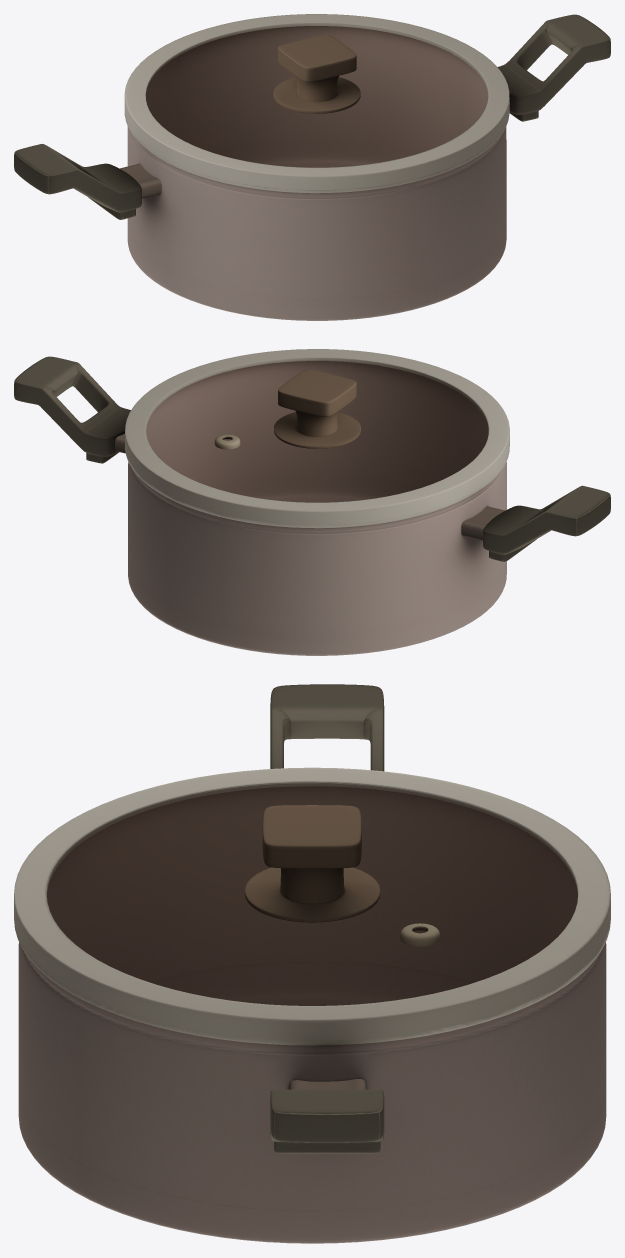
File: POT1.glb
3 renders of one model, top to bottom at view 1: azimuth 30°, elevation 25°; view 2: azimuth 150°, elevation 25°; view 3: azimuth 270°, elevation 25°, orthographic. The views are drawn at different scales.
Visible parts, largest first — view 1: polySurface25, polySurface21, polySurface24, polySurface27, polySurface29, polySurface31, polySurface26, polySurface30; view 2: polySurface25, polySurface21, polySurface24, polySurface27, polySurface29, polySurface31, polySurface26, polySurface30; view 3: polySurface25, polySurface21, polySurface24, polySurface31, polySurface27, polySurface29, polySurface26, polySurface23, polySurface28.
Boxes of the visible parts, bbox=[...] form: polySurface25: bbox=[127, 26, 506, 320]; polySurface21: bbox=[146, 26, 487, 166]; polySurface24: bbox=[124, 14, 509, 193]; polySurface27: bbox=[497, 14, 610, 121]; polySurface29: bbox=[14, 144, 141, 219]; polySurface31: bbox=[278, 35, 356, 101]; polySurface26: bbox=[273, 77, 360, 113]; polySurface30: bbox=[119, 163, 161, 198]; polySurface25: bbox=[128, 361, 506, 655]; polySurface21: bbox=[147, 361, 487, 501]; polySurface24: bbox=[125, 349, 509, 528]; polySurface27: bbox=[14, 356, 130, 463]; polySurface29: bbox=[483, 485, 610, 561]; polySurface31: bbox=[278, 369, 356, 436]; polySurface26: bbox=[274, 412, 360, 448]; polySurface30: bbox=[461, 506, 504, 540]; polySurface25: bbox=[18, 786, 606, 1243]; polySurface21: bbox=[47, 786, 577, 1005]; polySurface24: bbox=[14, 767, 610, 1045]; polySurface31: bbox=[262, 805, 361, 903]; polySurface27: bbox=[270, 1089, 384, 1153]; polySurface29: bbox=[270, 684, 384, 771]; polySurface26: bbox=[244, 867, 380, 922]; polySurface23: bbox=[400, 923, 440, 946]; polySurface28: bbox=[288, 1079, 366, 1089].
Size of the model in its own units: 0.4183 by 0.1351 by 0.2448.
7 materials, 5 textured.
